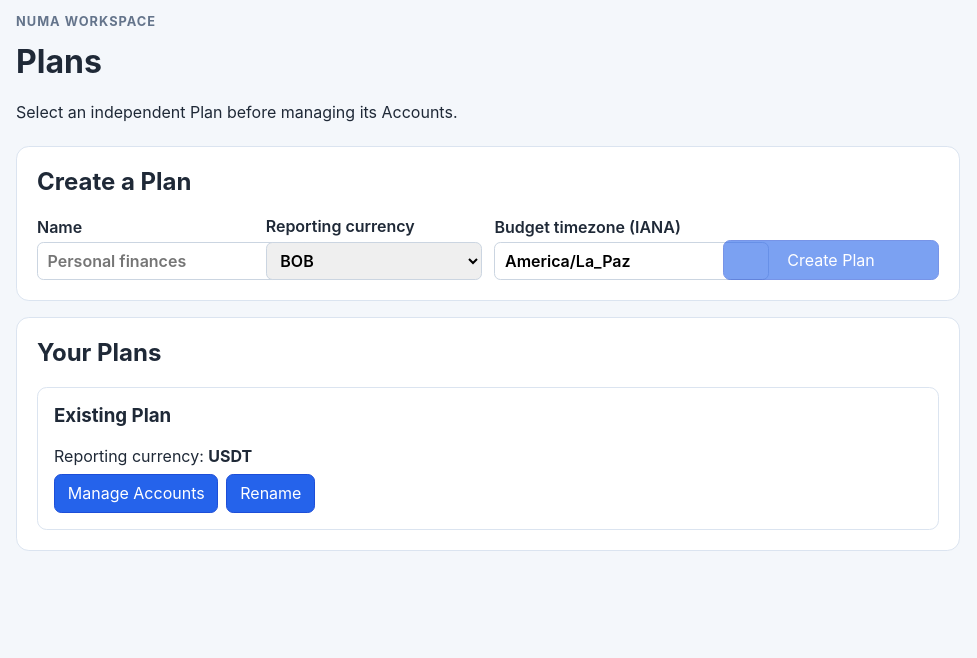
Test: minimal authoritative client flows › lists and renames a selected Plan without changing its currency
The image size is (977, 658).
Expected: the heading "Existing Plan" is shown, [54,404,171,427]
Expected: the text "Reporting currency: USDT" is shown, [54,446,252,466]
Click the button "Rename" at [271, 493], box [226,474,315,513]
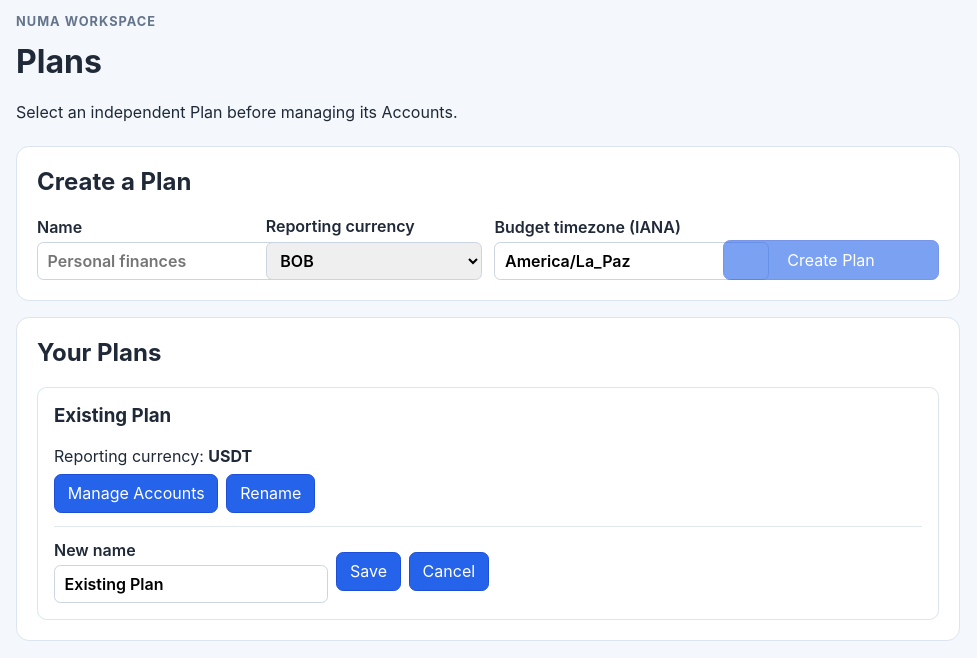
Replace the text in the field labelled "New name" with "Renamed Plan" at [191, 584], box [54,565,328,603]
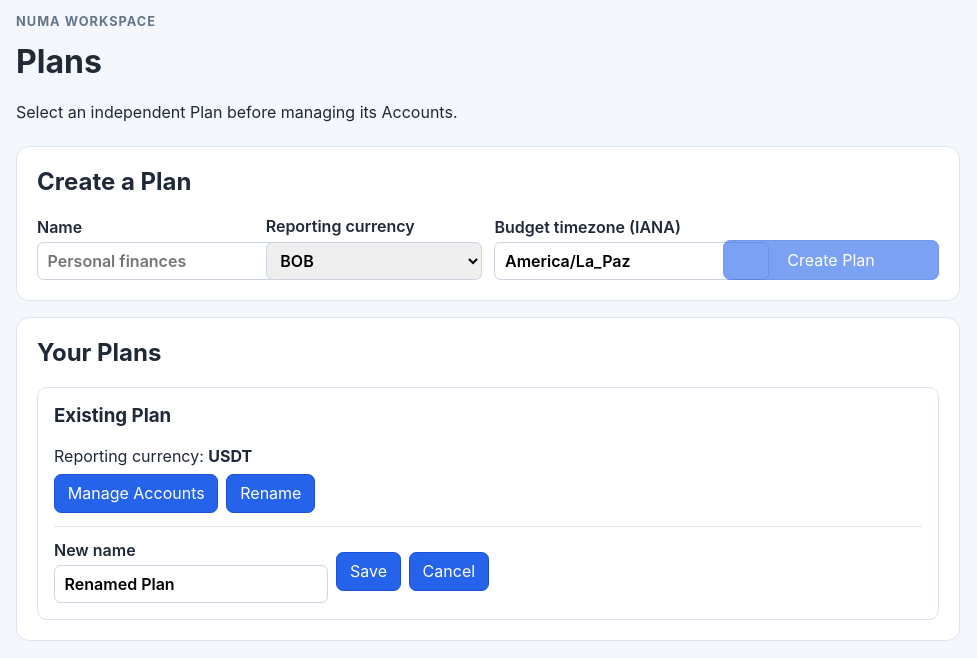
Click the button "Save" at [368, 571], box [336,552,401,591]
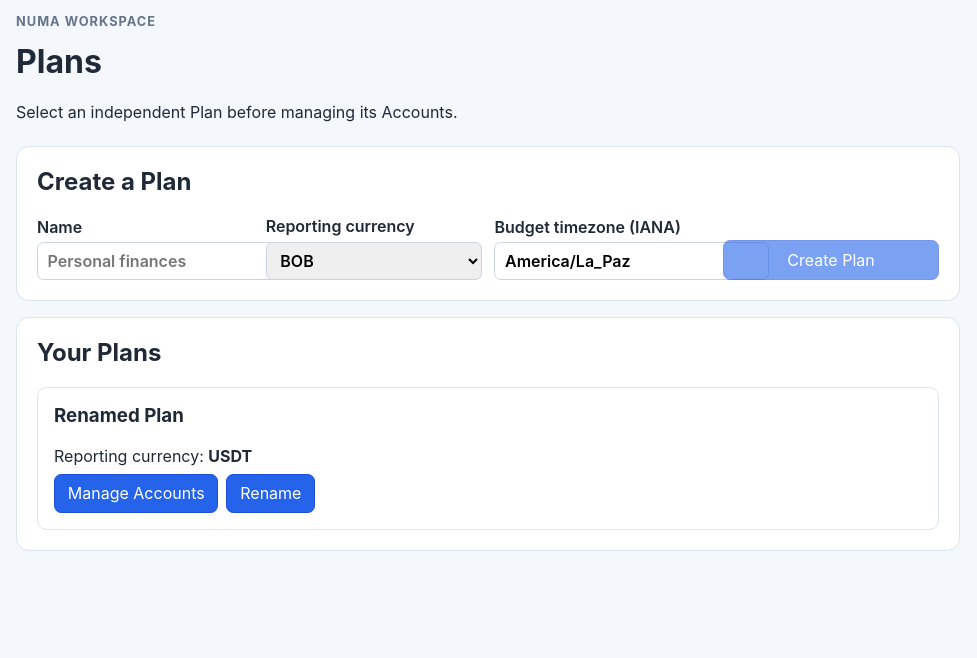
Expected: the text "Reporting currency: USDT" is shown, [54,446,252,466]
Now the heading "Renamed Plan" is shown, box [54,404,184,427]
